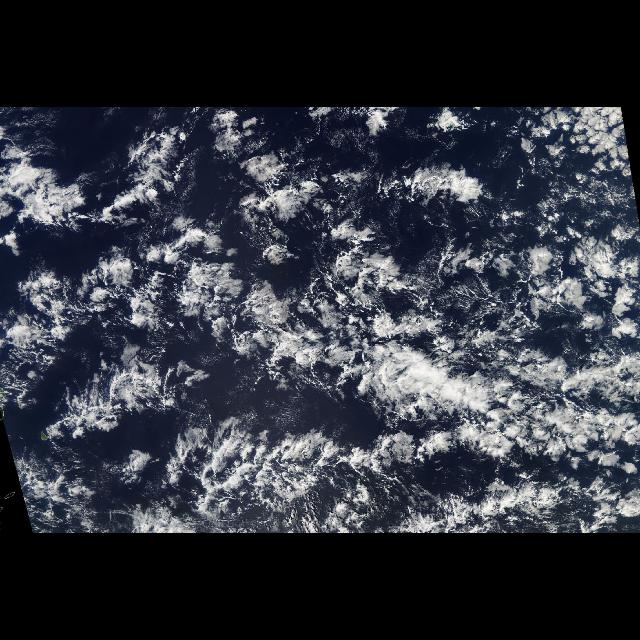Fish: (150, 422, 368, 514)
Flower: (121, 124, 359, 378)
